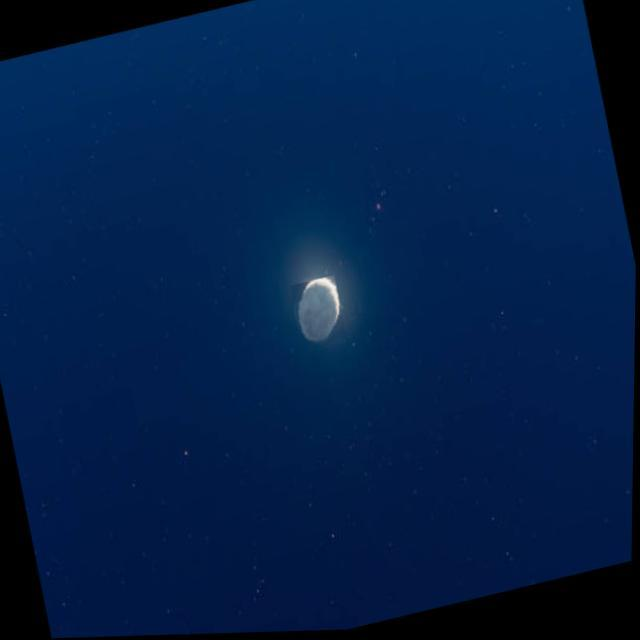moon: (282, 276, 348, 355)
